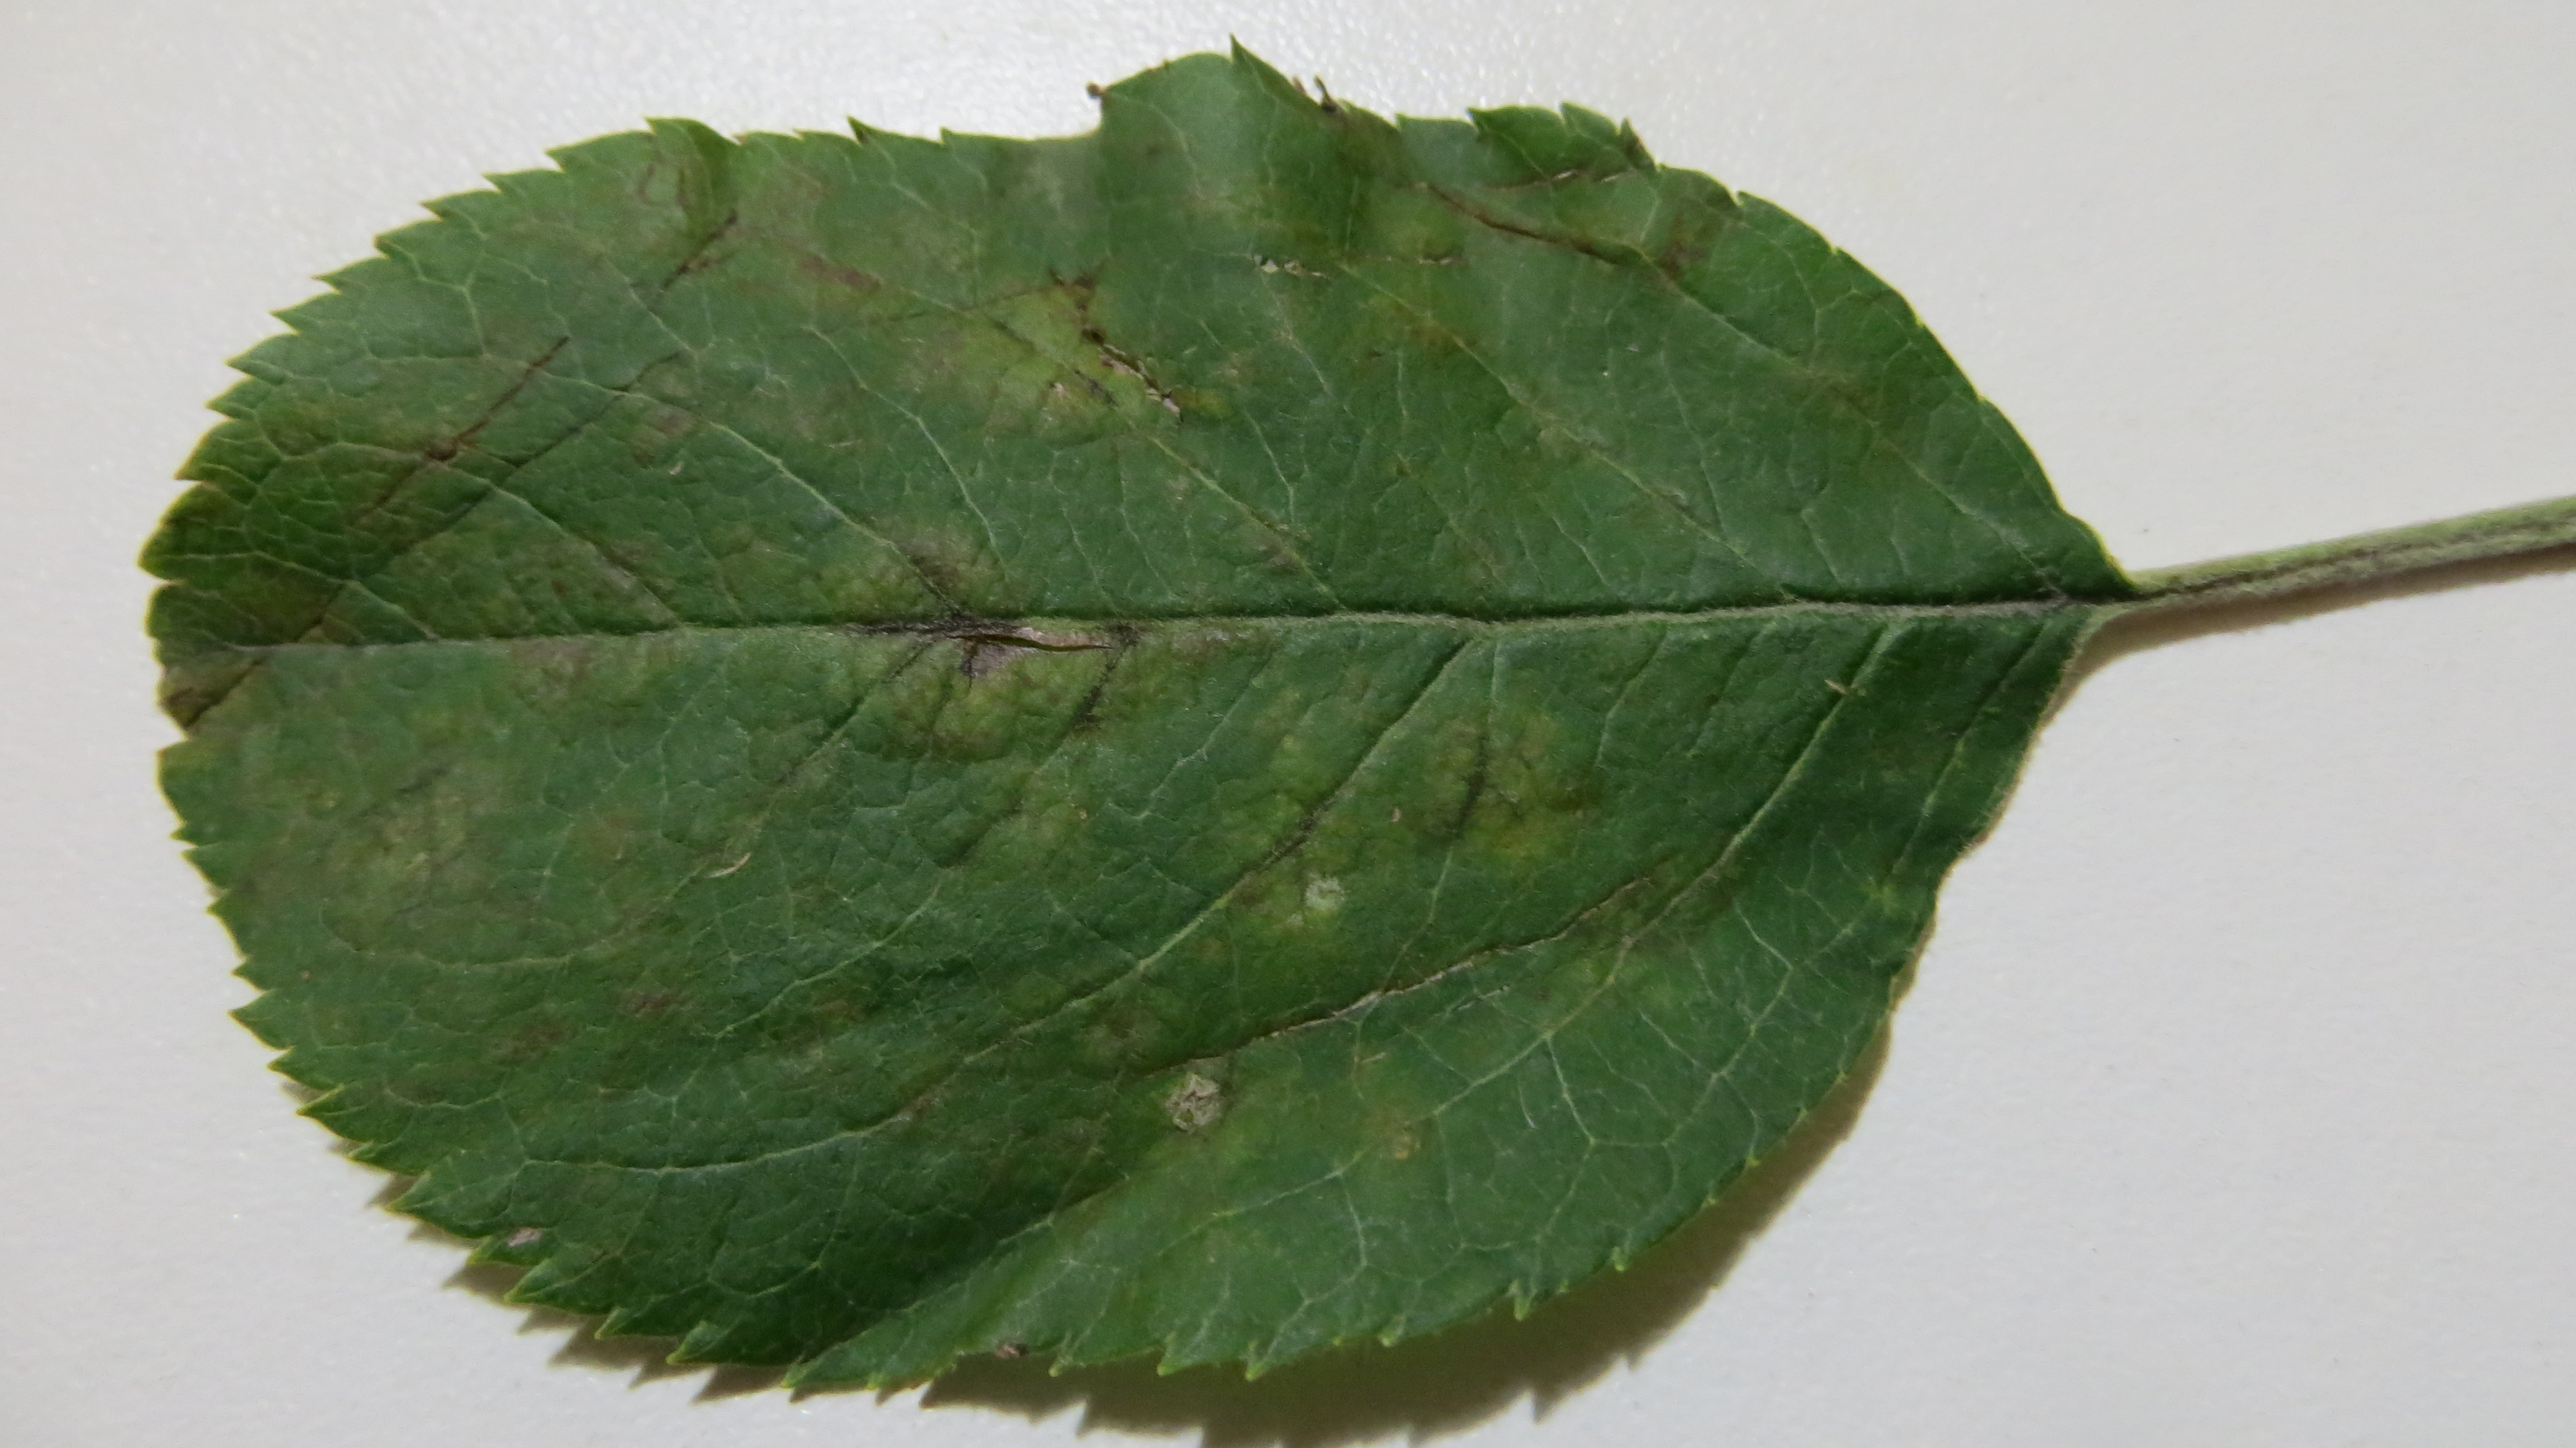sarna: (288, 729, 527, 938), (821, 533, 1046, 754), (938, 258, 1192, 448), (497, 531, 692, 701), (1203, 745, 1366, 922), (1433, 701, 1587, 867), (1552, 855, 1695, 1011), (1339, 267, 1490, 382), (1569, 191, 1721, 297), (1042, 597, 1143, 751), (952, 752, 1077, 871), (1265, 651, 1414, 751), (1415, 175, 1569, 269), (230, 561, 370, 662), (152, 644, 264, 761), (469, 981, 582, 1092), (736, 352, 855, 458), (609, 343, 713, 462), (1341, 1064, 1440, 1188), (361, 397, 485, 492), (1746, 333, 1874, 421), (556, 786, 671, 873), (598, 935, 690, 1041), (1148, 1043, 1238, 1151), (780, 232, 904, 310), (1458, 127, 1589, 200), (660, 191, 752, 294), (1231, 497, 1327, 584)
